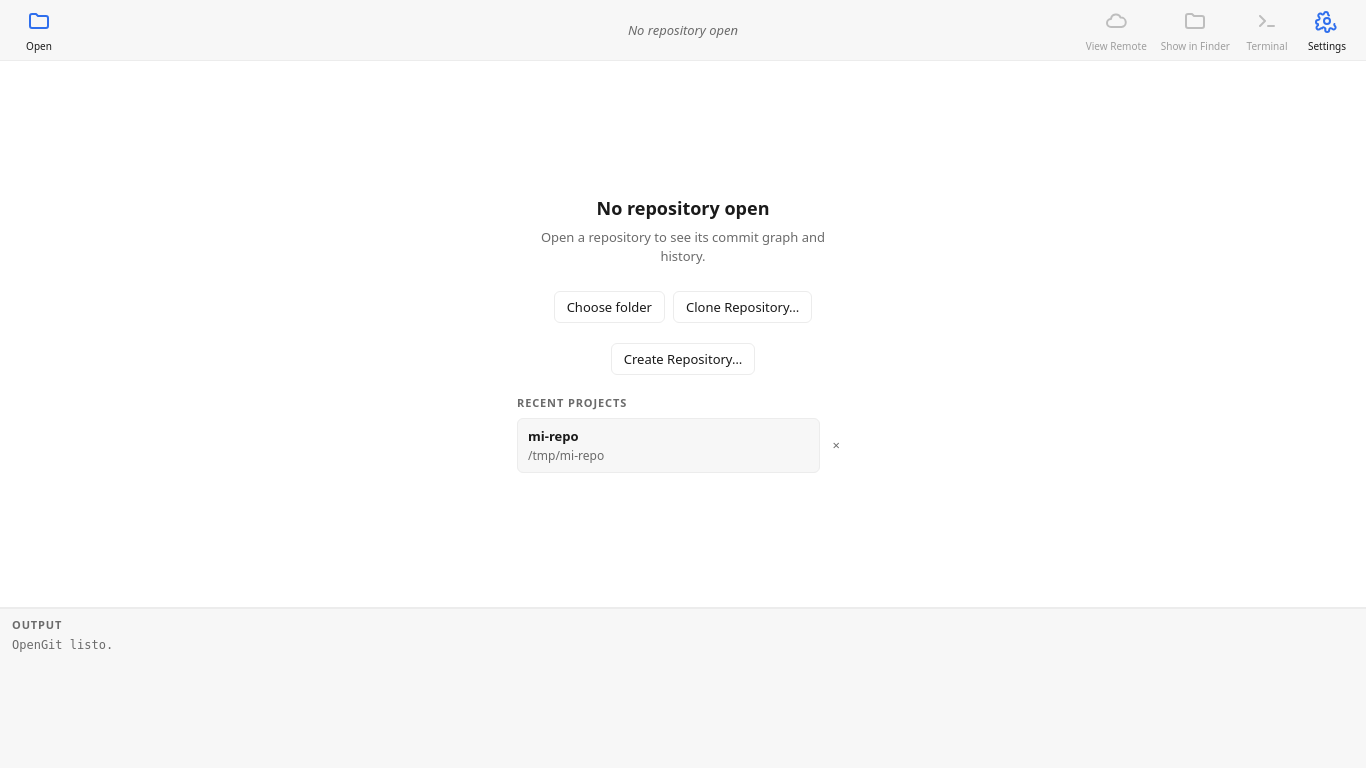
Scenario: App › opens the chosen repository and shows the history
This screenshot has width=1366, height=768.
Click the button "Choose folder". click: (609, 306)
box: [554,290,665,322]
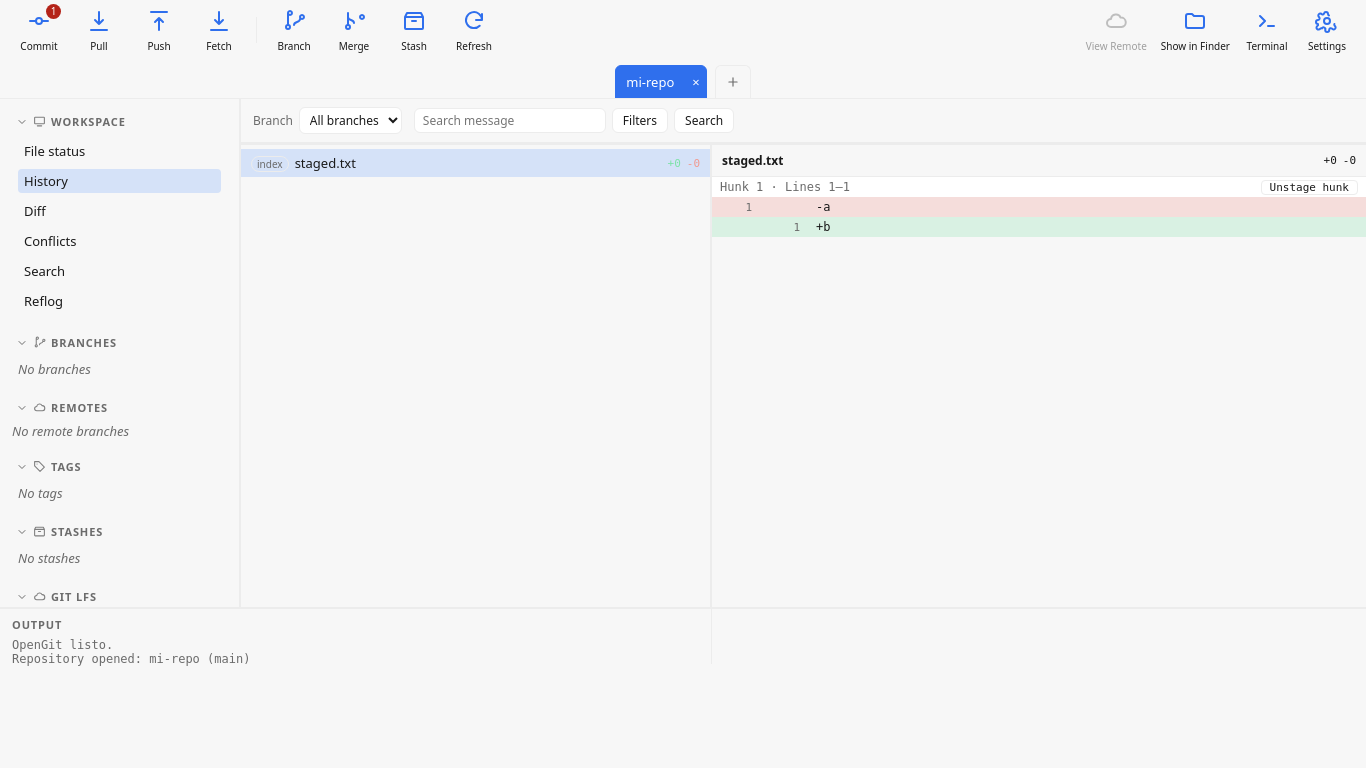
expect the element named "Uncommitted changes" is shown: met, box [241,144,1365,664]
expect the text "Repository opened: mi-repo (main)" is shown: met, box [12,652,250,666]
expect the button "Fetch" is shown: met, box [190,4,248,56]
